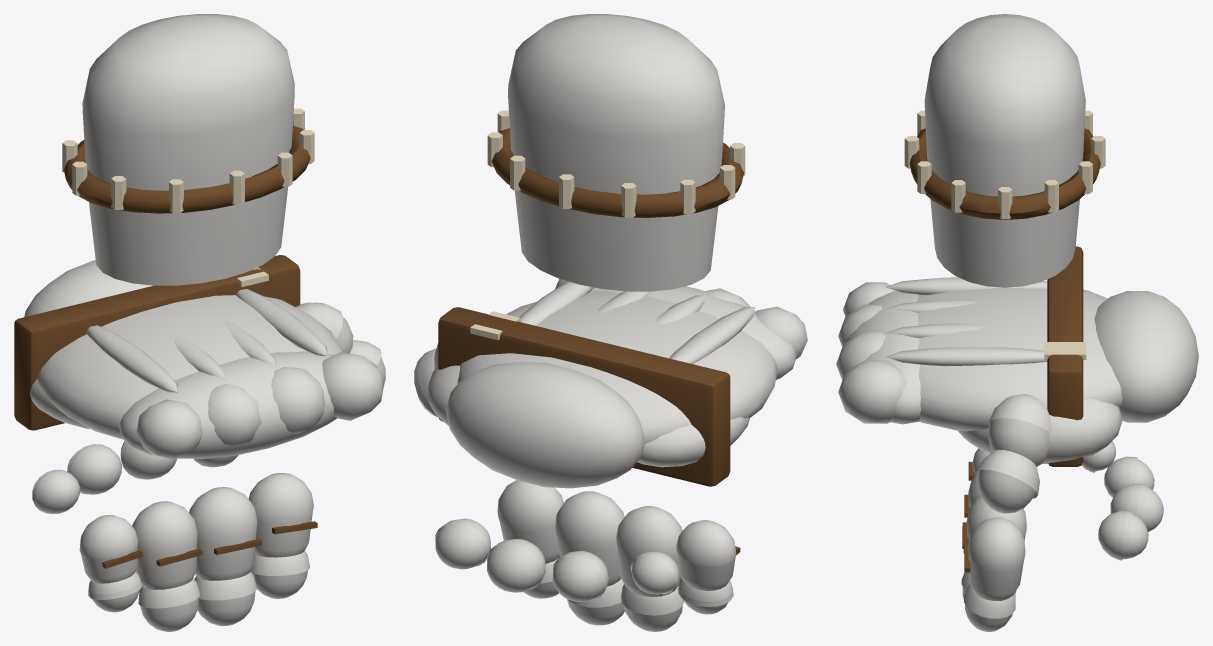
File: HistoriaNatural_Mano.fbx
3 renders of one model, left to right at view 1: azimuth 30°, elevation 25°; view 2: azimuth 150°, elevation 25°; view 3: azimuth 270°, elevation 25°, orthographic. The views are drawn at different scales.
Visible parts, largest first — view 1: Palma, Antebrazo, Dedo_Medio_1, Dedo_Anular_1, Dedo_Indice_1, Dedo_Menique_1, Dedo_Medio_2, Dedo_Anular_2, Dedo_Indice_2, Dedo_Anular_3, Dedo_Menique_3, Dedo_Menique_2 (+3 smaller); view 2: Palma, Antebrazo, Dedo_Medio_1, Dedo_Indice_1, Dedo_Menique_1, Dedo_Anular_1, Dedo_Medio_3, Dedo_Anular_3, Dedo_Indice_3, Dedo_Anular_2, Dedo_Menique_3, Dedo_Medio_2 (+3 smaller); view 3: Palma, Antebrazo, Dedo_Indice_1, Pulgar_1, Pulgar_2, Dedo_Indice_3, Dedo_Medio_3, Dedo_Indice_2, Dedo_Anular_3, Dedo_Medio_1, Dedo_Menique_3.
Part boxes in pixels (x1=…): Palma: x1=14, y1=255, x2=384, y2=459; Antebrazo: x1=62, y1=14, x2=314, y2=285; Dedo_Medio_1: x1=189, y1=487, x2=261, y2=580; Dedo_Anular_1: x1=132, y1=501, x2=202, y2=589; Dedo_Indice_1: x1=248, y1=473, x2=317, y2=557; Dedo_Menique_1: x1=79, y1=515, x2=142, y2=583; Dedo_Medio_2: x1=194, y1=571, x2=256, y2=626; Dedo_Anular_2: x1=138, y1=578, x2=200, y2=631; Dedo_Indice_2: x1=250, y1=551, x2=309, y2=598; Dedo_Anular_3: x1=67, y1=444, x2=121, y2=494; Dedo_Menique_3: x1=32, y1=469, x2=79, y2=513; Dedo_Menique_2: x1=88, y1=572, x2=142, y2=612; Palma: x1=427, y1=278, x2=807, y2=488; Antebrazo: x1=487, y1=14, x2=745, y2=291; Dedo_Medio_1: x1=555, y1=491, x2=624, y2=586; Dedo_Indice_1: x1=497, y1=480, x2=563, y2=563; Dedo_Menique_1: x1=676, y1=520, x2=740, y2=590; Dedo_Anular_1: x1=616, y1=506, x2=682, y2=596; Dedo_Medio_3: x1=487, y1=538, x2=545, y2=592; Dedo_Anular_3: x1=552, y1=551, x2=608, y2=601; Dedo_Indice_3: x1=435, y1=518, x2=490, y2=569; Dedo_Anular_2: x1=621, y1=584, x2=684, y2=631; Dedo_Menique_3: x1=630, y1=551, x2=679, y2=594; Dedo_Medio_2: x1=567, y1=579, x2=624, y2=625; Palma: x1=836, y1=246, x2=1198, y2=466; Antebrazo: x1=904, y1=14, x2=1105, y2=287; Dedo_Indice_1: x1=964, y1=517, x2=1025, y2=600; Pulgar_1: x1=987, y1=394, x2=1051, y2=466; Pulgar_2: x1=975, y1=449, x2=1039, y2=513; Dedo_Indice_3: x1=1098, y1=511, x2=1148, y2=560; Dedo_Medio_3: x1=1110, y1=483, x2=1163, y2=532; Dedo_Indice_2: x1=964, y1=584, x2=1015, y2=631; Dedo_Anular_3: x1=1104, y1=456, x2=1154, y2=497; Dedo_Medio_1: x1=962, y1=495, x2=1026, y2=548; Dedo_Menique_3: x1=1081, y1=441, x2=1115, y2=472.
Size of the model in its own units: 0.6049 by 1.05 by 0.6031.
